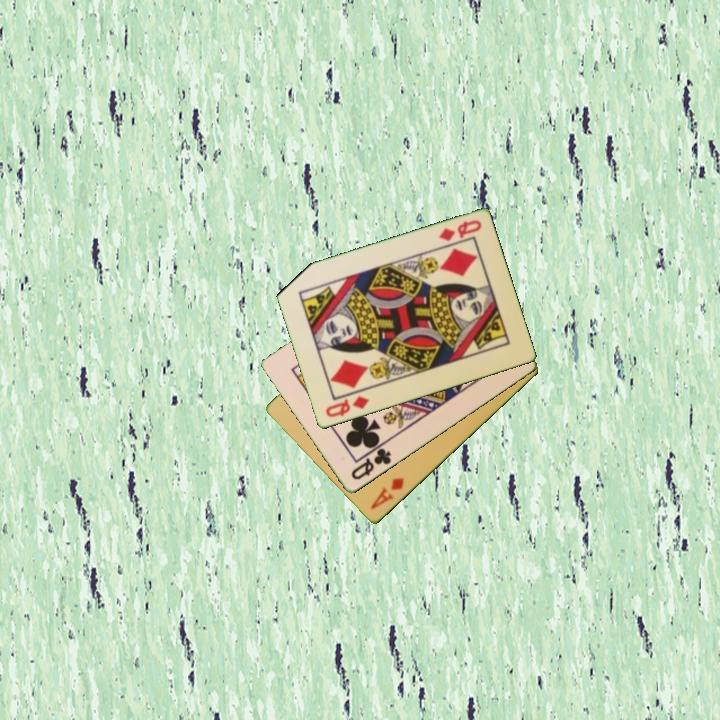Ad: (367, 474, 407, 513)
Qc: (347, 445, 394, 483)
Qd: (321, 392, 372, 421), (435, 217, 484, 245)
